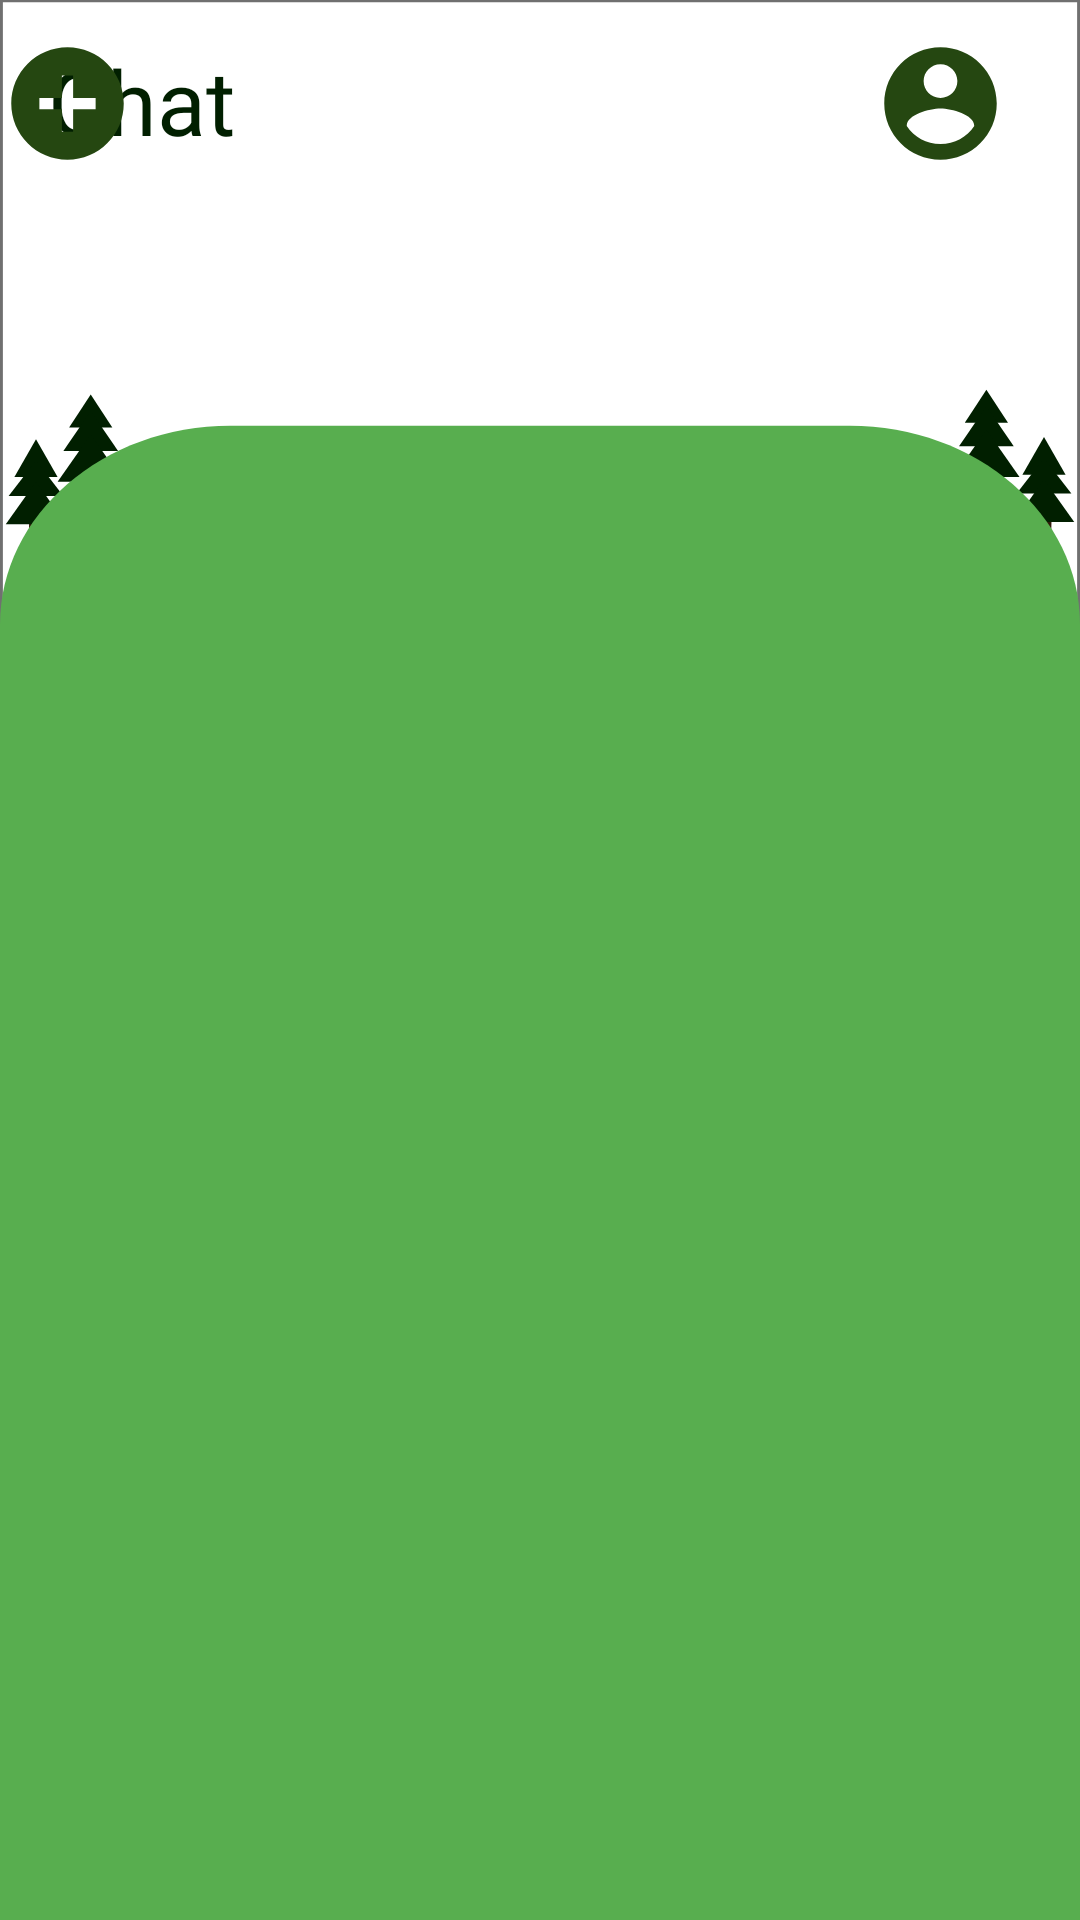

Icon click points for this 1080x1920 phone screenshot, format (x,y):
user: (940,103)
